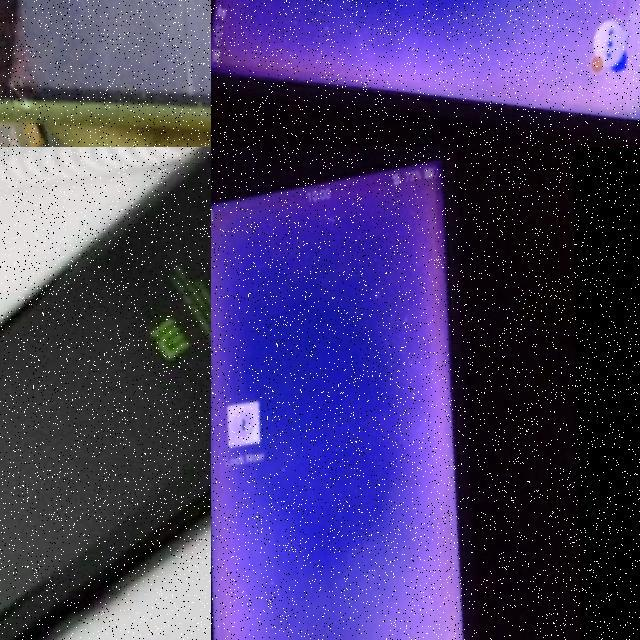screen crack: (0, 0, 211, 135)
